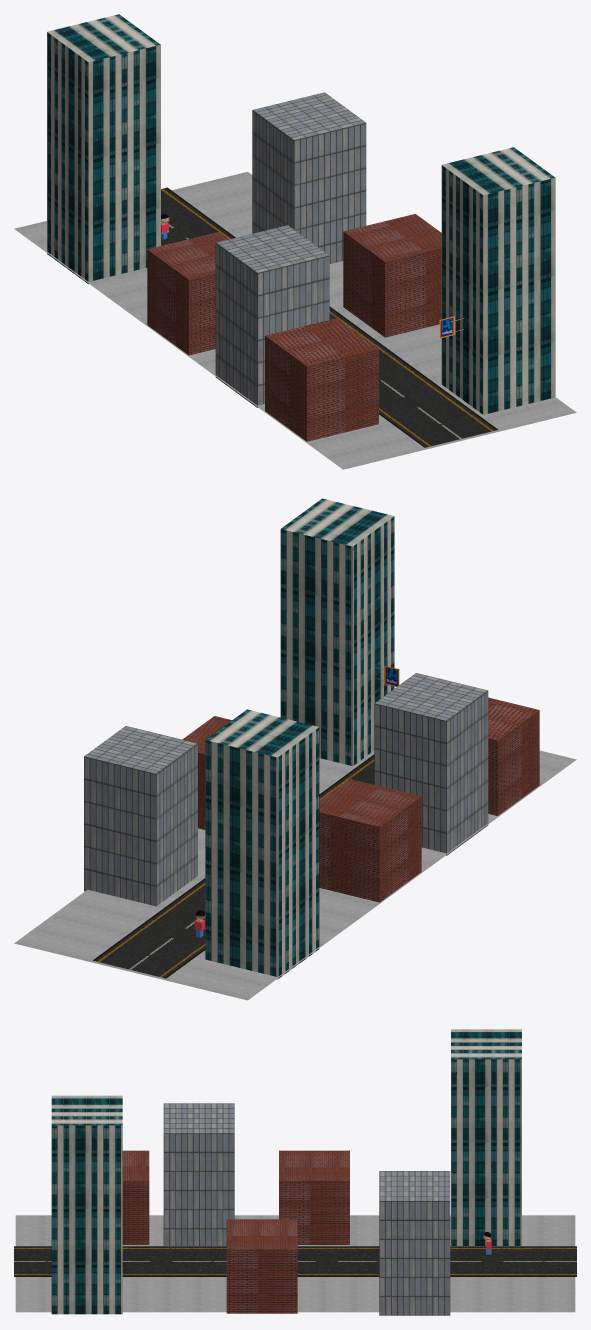
File: butast_primer_loceno.gltf
3 renders of one model, top to bottom at view 1: azimuth 30°, elevation 25°; view 2: azimuth 150°, elevation 25°; view 3: azimuth 270°, elevation 25°, orthographic. The views are drawn at different scales.
Parts seen in each view (by area): view 1: bloki__levo.004, bloki_desno.004, cesta, bloki__levo.002, bloki_desno.002, bloki_desno.001, bloki__levo.003, bloki_desno.003; view 2: bloki_desno.004, bloki__levo.004, cesta, bloki__levo.002, bloki_desno.002, bloki_desno.003, bloki_desno.001, bloki__levo.003; view 3: cesta, bloki__levo.004, bloki_desno.004, bloki__levo.002, bloki_desno.002, bloki__levo.003, bloki_desno.003, bloki_desno.001.
Part boxes in pixels (left/top/right/bottom): bloki__levo.004: left=441, top=147, right=555, bottom=414; bloki_desno.004: left=47, top=14, right=160, bottom=284; cesta: left=14, top=172, right=576, bottom=469; bloki__levo.002: left=252, top=92, right=366, bottom=263; bloki_desno.002: left=215, top=225, right=329, bottom=407; bloki_desno.001: left=265, top=318, right=378, bottom=441; bloki__levo.003: left=343, top=214, right=441, bottom=337; bloki_desno.003: left=147, top=231, right=229, bottom=355; bloki_desno.004: left=205, top=709, right=319, bottom=979; bloki__levo.004: left=280, top=498, right=394, bottom=765; cesta: left=14, top=750, right=576, bottom=1000; bloki__levo.002: left=84, top=726, right=197, bottom=906; bloki_desno.002: left=374, top=673, right=488, bottom=855; bloki_desno.003: left=319, top=778, right=421, bottom=902; bloki_desno.001: left=488, top=697, right=539, bottom=815; bloki__levo.003: left=182, top=716, right=231, bottom=829; cesta: left=14, top=1215, right=576, bottom=1312; bloki__levo.004: left=51, top=1095, right=122, bottom=1314; bloki_desno.004: left=451, top=1029, right=521, bottom=1245; bloki__levo.002: left=379, top=1171, right=450, bottom=1315; bloki_desno.002: left=163, top=1103, right=234, bottom=1245; bloki__levo.003: left=226, top=1219, right=297, bottom=1313; bloki_desno.003: left=279, top=1150, right=349, bottom=1244; bloki_desno.001: left=122, top=1150, right=149, bottom=1244.
Bounding box in the file's own units: 9.44 × 8.41 × 22.73.
Materials: 12 (12 with a texture image).
